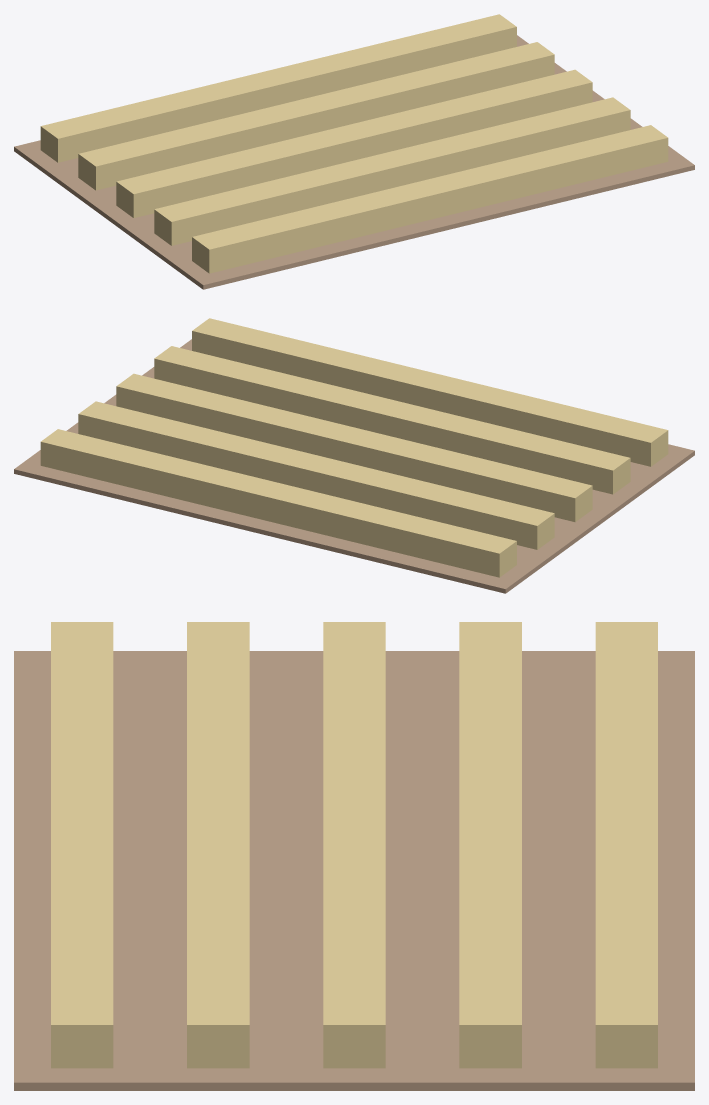
File: field.glb
The picture shows the model from 3 angles, top to bottom: view 1: azimuth 30°, elevation 25°; view 2: azimuth 150°, elevation 25°; view 3: azimuth 270°, elevation 25°; orthographic projection. The views are drawn at different scales.
Visible parts, largest first — view 1: field_grain, field_soil; view 2: field_grain, field_soil; view 3: field_soil, field_grain.
Part boxes in pixels (x1=…): field_grain: x1=40, y1=14, x2=668, y2=273; field_soil: x1=14, y1=35, x2=694, y2=289; field_grain: x1=40, y1=318, x2=668, y2=577; field_soil: x1=14, y1=339, x2=694, y2=593; field_soil: x1=14, y1=651, x2=694, y2=1090; field_grain: x1=51, y1=622, x2=657, y2=1068.
Size of the model in its own units: 3 by 0.1667 by 2.
